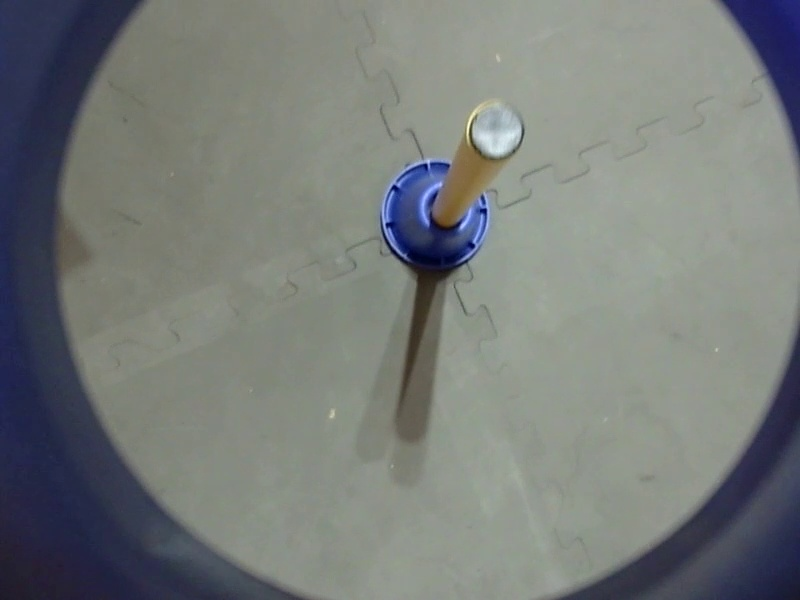tip: (462, 98, 527, 178)
